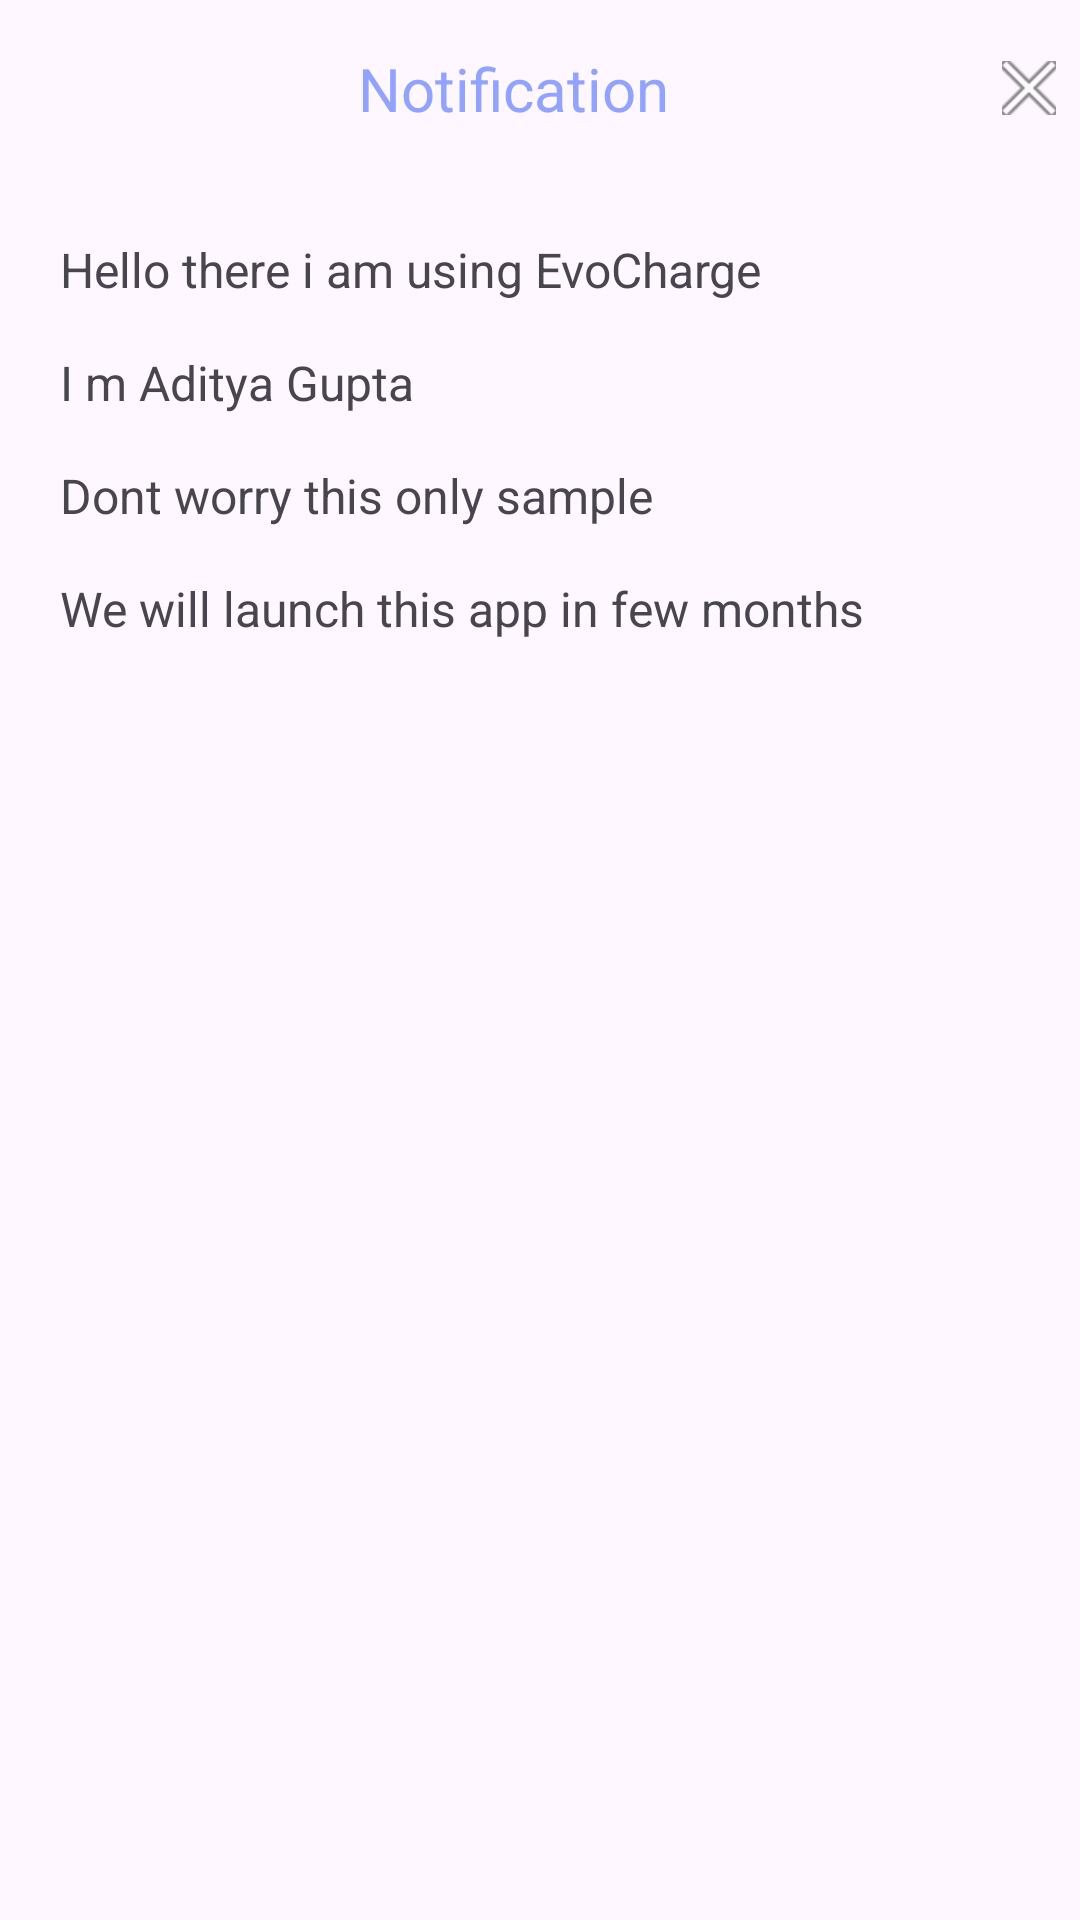

Icon bounding boxes for this 1080x1920 phone screenshot, format (x1, y1, x2, y2):
close clear cancel: (1002, 61, 1056, 115)
